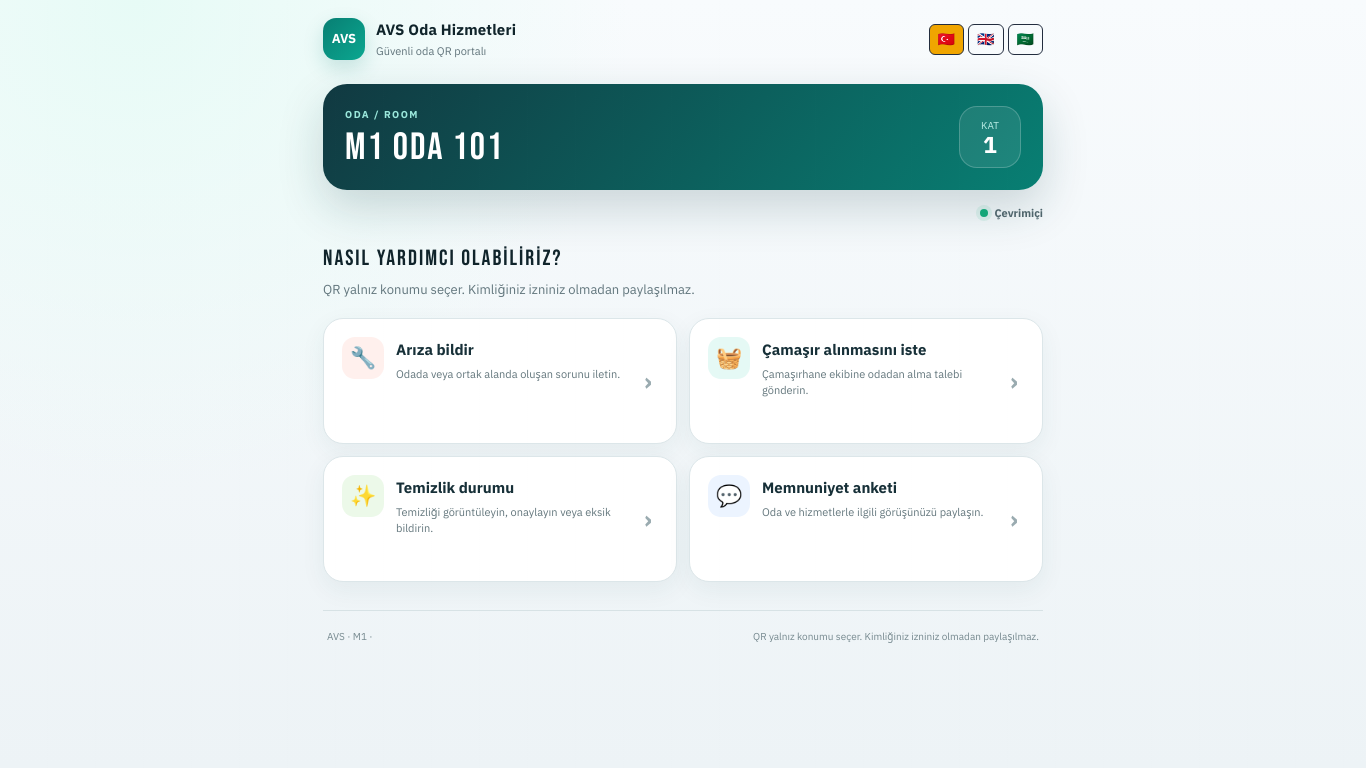
Test case: RoomPortalPage › temizlik "skipped" durumundayken de görevliye saha ekranı bağlantısı gösterir
Click the button "Temizlik durumu". click: (500, 518)
box: [323,456,677,582]
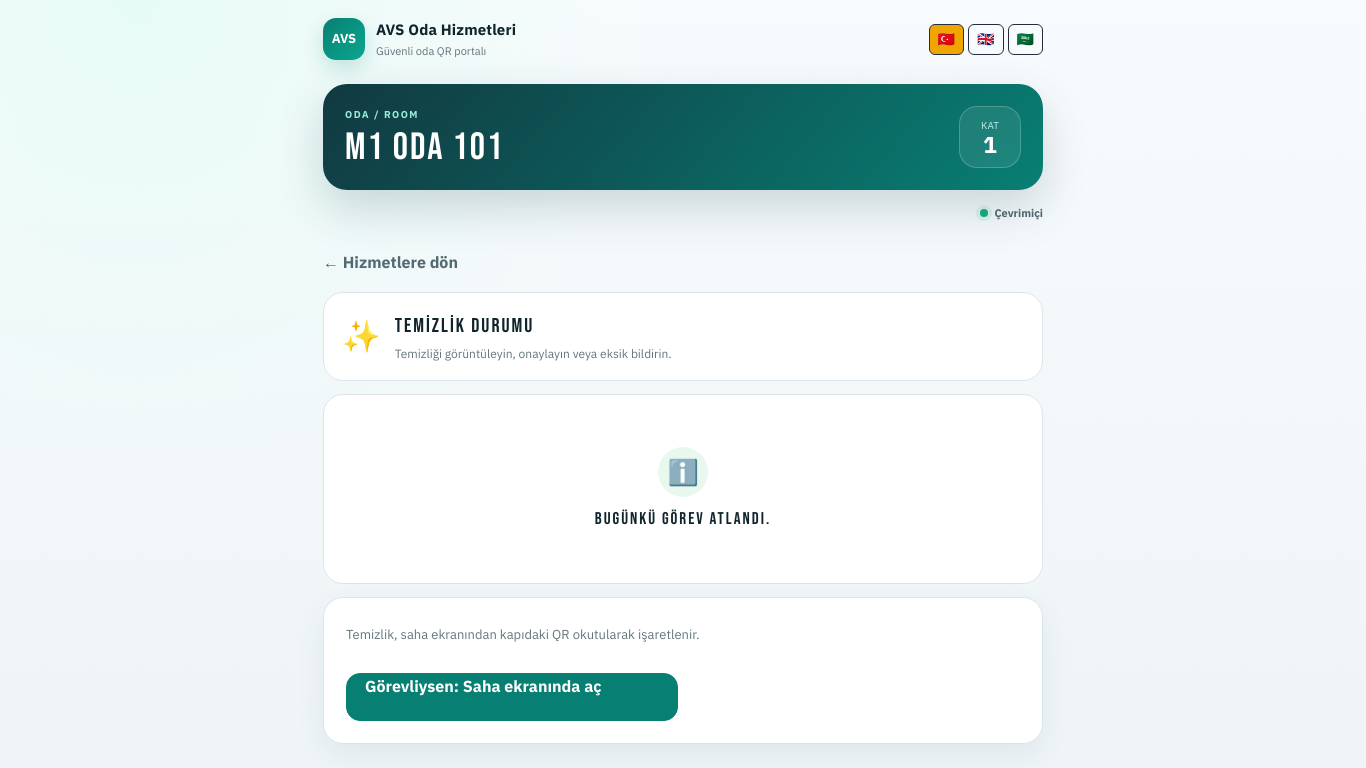
expect the heading "Bugünkü görev atlandı." is shown: met, box [595,507,771,532]
